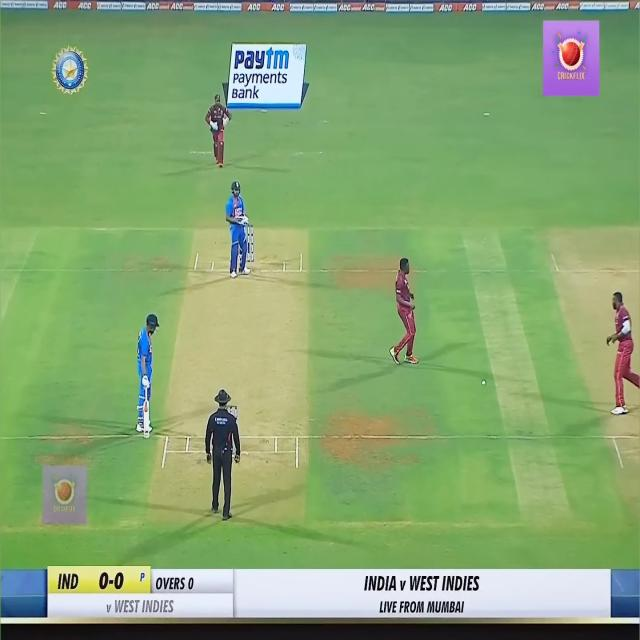fully_visible: (234, 43, 298, 74)
